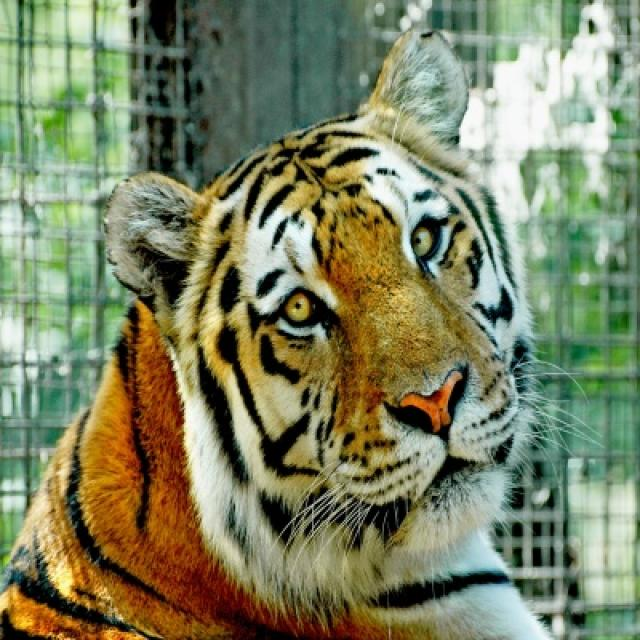Tiger: (0, 24, 550, 638)
